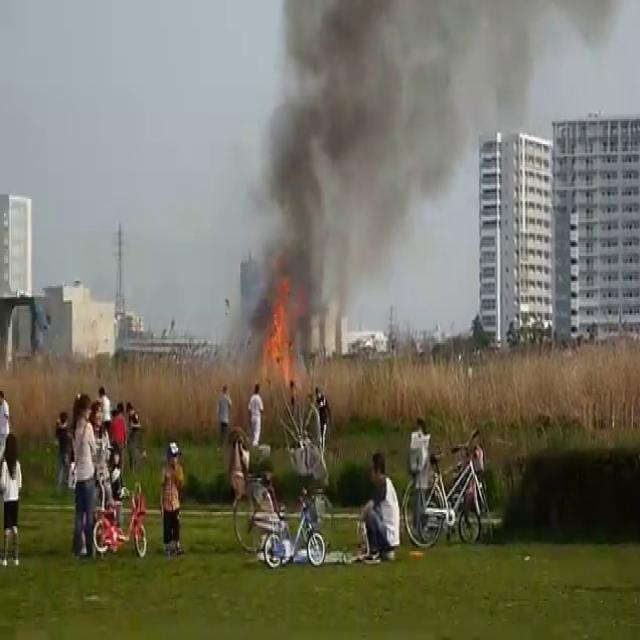Fire: (253, 275, 303, 393)
Smoke: (232, 0, 629, 334)
